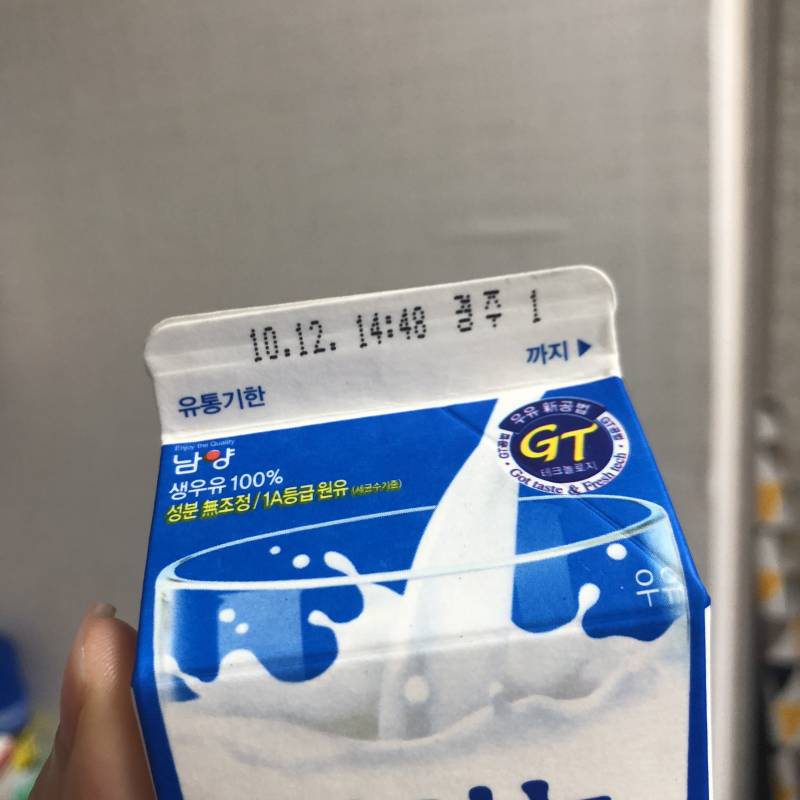milk: (129, 262, 716, 800)
